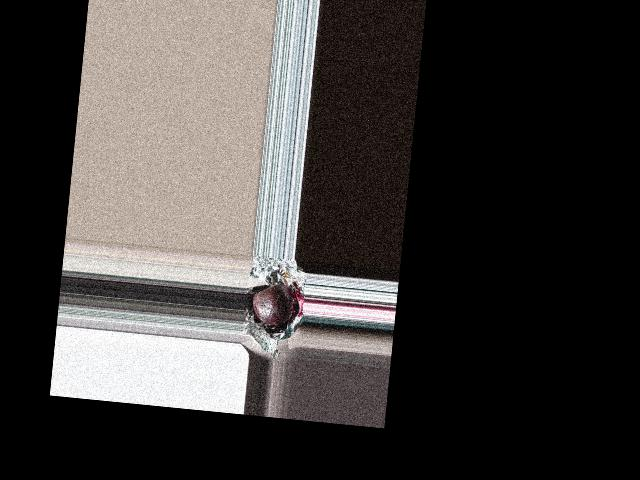beet: (250, 281, 293, 327)
